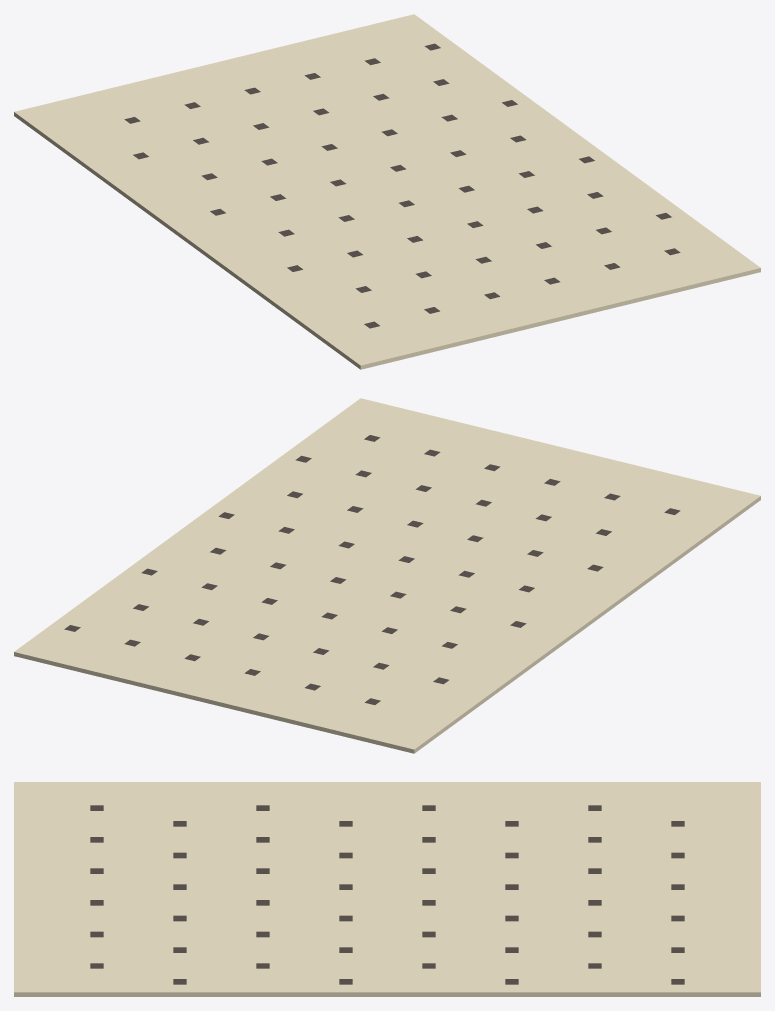
File: prop-pricking-card.fbx
3 views of the same model, one above another, from view 1: azimuth 30°, elevation 25°; view 2: azimuth 150°, elevation 25°; view 3: azimuth 270°, elevation 25° (orthographic). The views are drawn at different scales.
Visible parts, largest first — view 1: prop-pricking-card; view 2: prop-pricking-card; view 3: prop-pricking-card.
Boxes of the visible parts, <box> form: prop-pricking-card: <box>14,14,760,369</box>; prop-pricking-card: <box>14,398,760,753</box>; prop-pricking-card: <box>14,782,760,996</box>.
Bounding box in the file's own units: 12 × 0.125 × 18.
